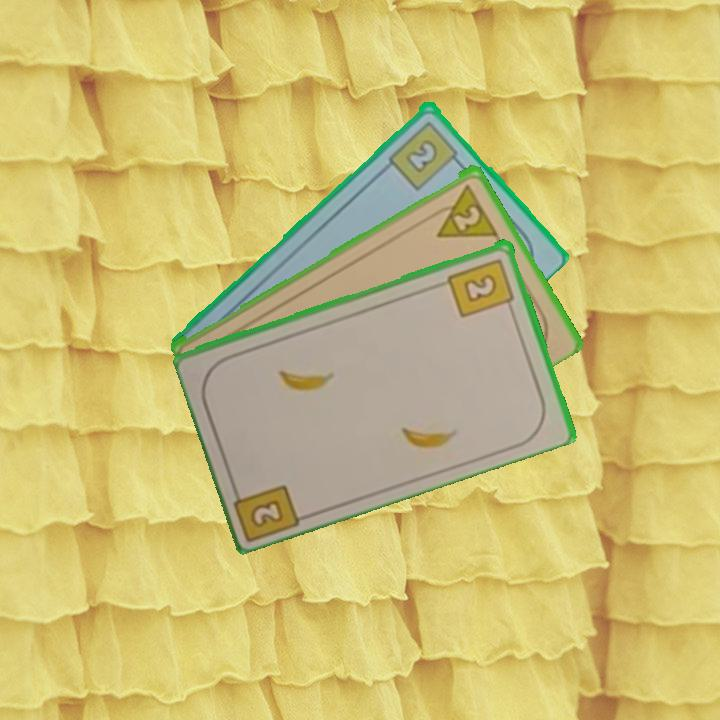2b: (385, 116, 465, 193), (228, 478, 305, 542), (445, 254, 517, 320)
2p: (425, 180, 500, 241)
